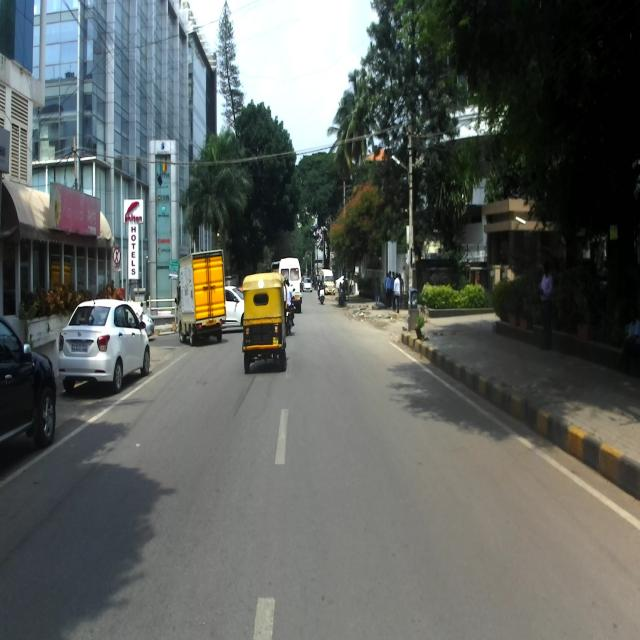autorickshaw: (240, 274, 289, 373)
car: (56, 296, 150, 392)
truck: (174, 248, 226, 346)
